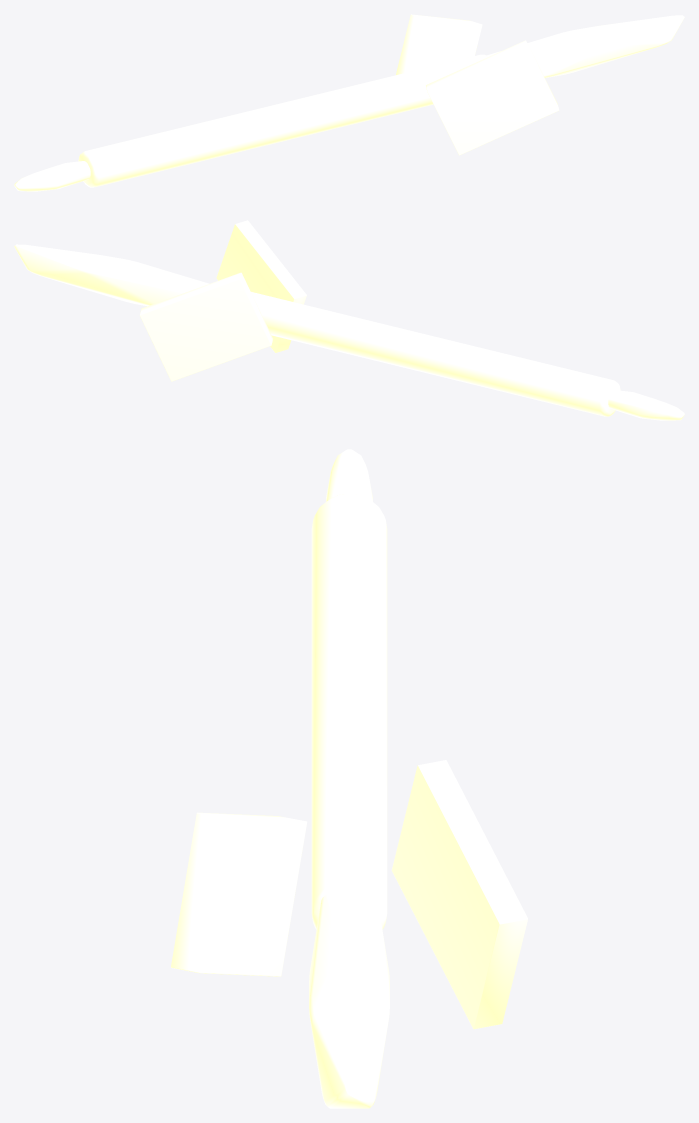
File: Idol_Light_Lance.glb
3 views of the same model, one above another, from view 1: azimuth 30°, elevation 25°; view 2: azimuth 150°, elevation 25°; view 3: azimuth 270°, elevation 25° (orthographic). The views are drawn at different scales.
Parts seen in each view (by area): view 1: Idol_Light_Lance; view 2: Idol_Light_Lance; view 3: Idol_Light_Lance.
Boxes of the visible parts, bbox=[...] form: Idol_Light_Lance: bbox=[14, 14, 684, 191]; Idol_Light_Lance: bbox=[14, 220, 684, 420]; Idol_Light_Lance: bbox=[171, 449, 527, 1108].
Bounding box in the file's own units: 1.96 × 0.2956 × 0.4528.
